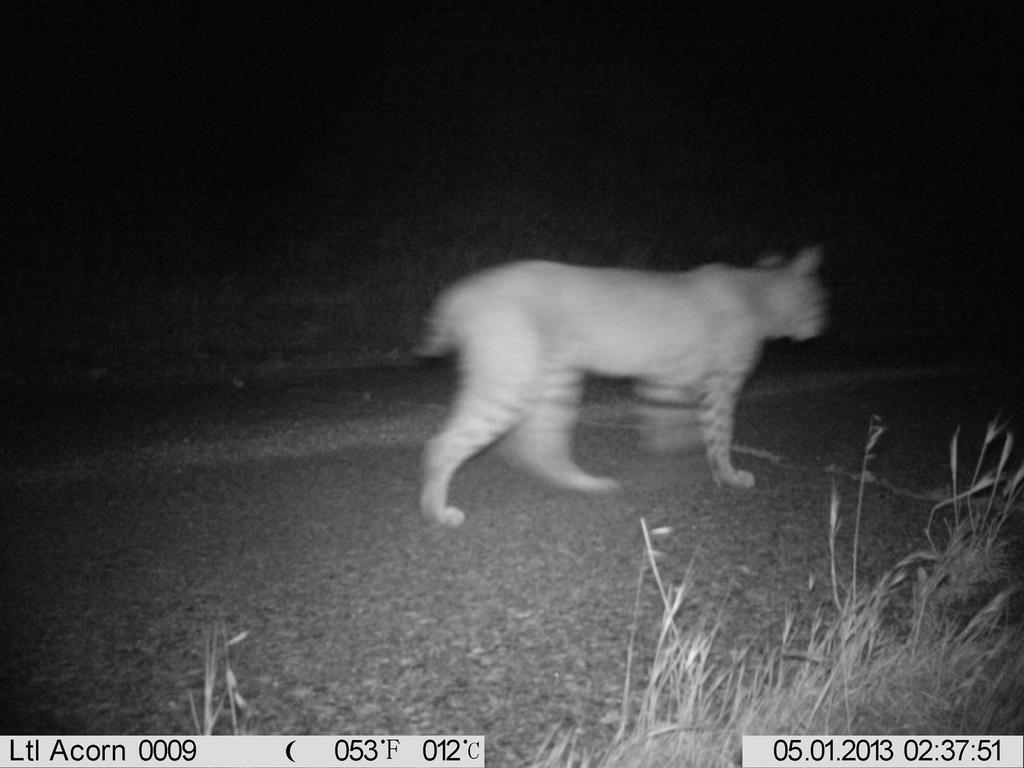bobcat: (409, 241, 835, 534)
